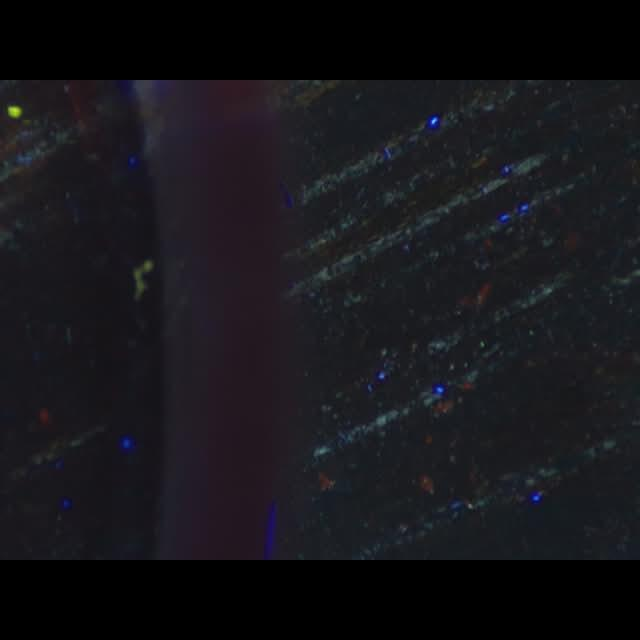Fibre: (132, 260, 154, 302)
microbeads: (5, 106, 22, 120)
